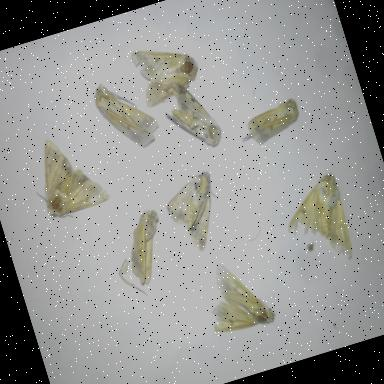abw: (270, 164, 362, 276), (20, 122, 116, 228), (190, 246, 280, 344), (156, 164, 236, 260), (152, 66, 231, 163), (87, 66, 167, 160), (124, 29, 210, 114), (110, 202, 182, 294), (231, 92, 308, 153)
